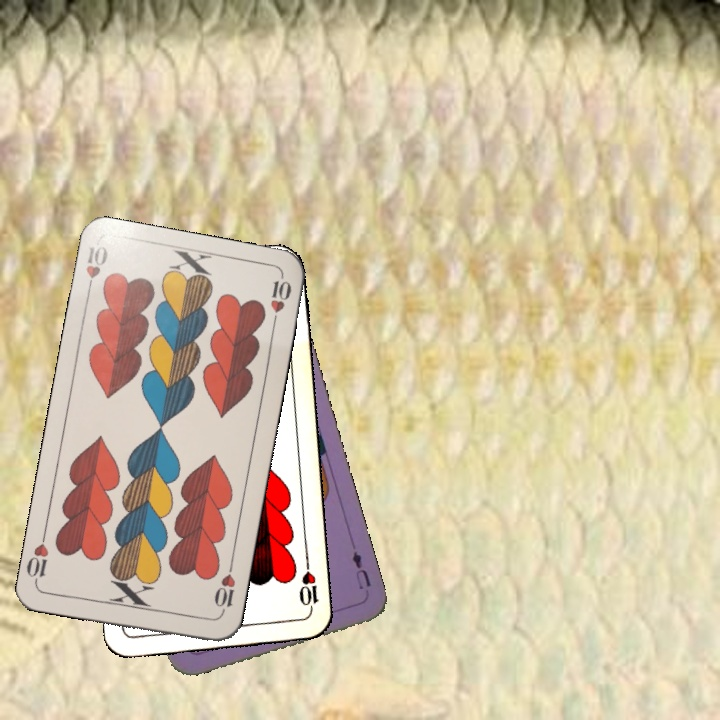EU: (347, 547, 374, 593)
H10: (81, 242, 111, 299), (210, 560, 238, 618), (294, 557, 321, 616)
